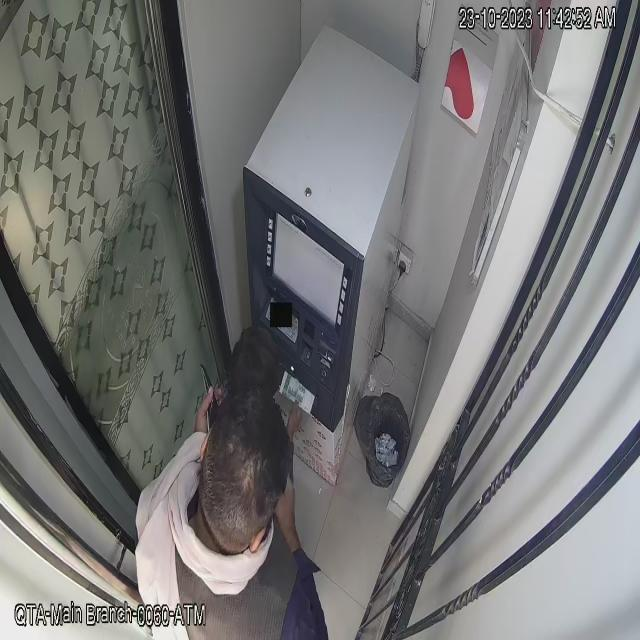note: (278, 361, 318, 419)
